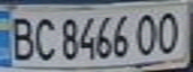4: (78, 12, 100, 61)
6: (112, 10, 136, 58), (93, 11, 115, 60)
8: (57, 14, 81, 61)
B: (3, 12, 39, 62)
C: (30, 14, 57, 62)
O: (154, 7, 187, 55), (133, 9, 163, 56)
